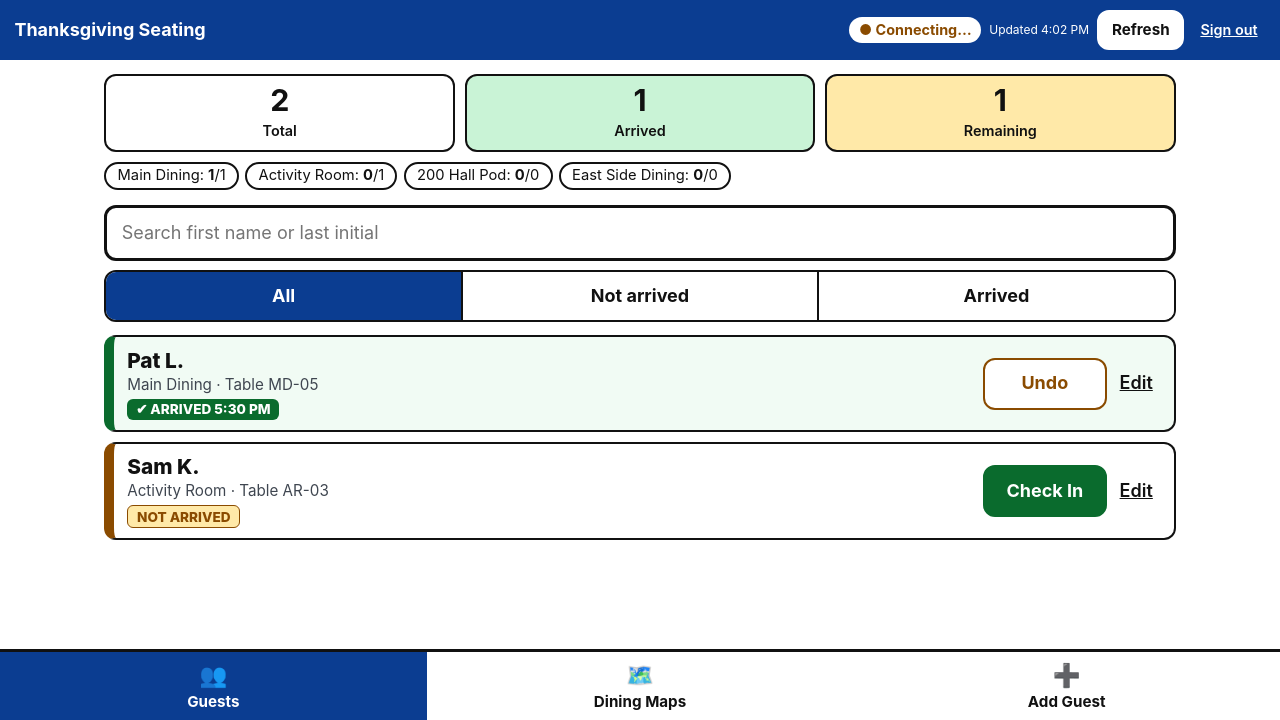
end to end through the real app shell › tap guest -> Dining Maps, right room, table outlined, sheet open; Check In works; leaving the map clears it
Click the text "Sam K.": x=163, y=467 [127,454,200,479]
(page scrolled)
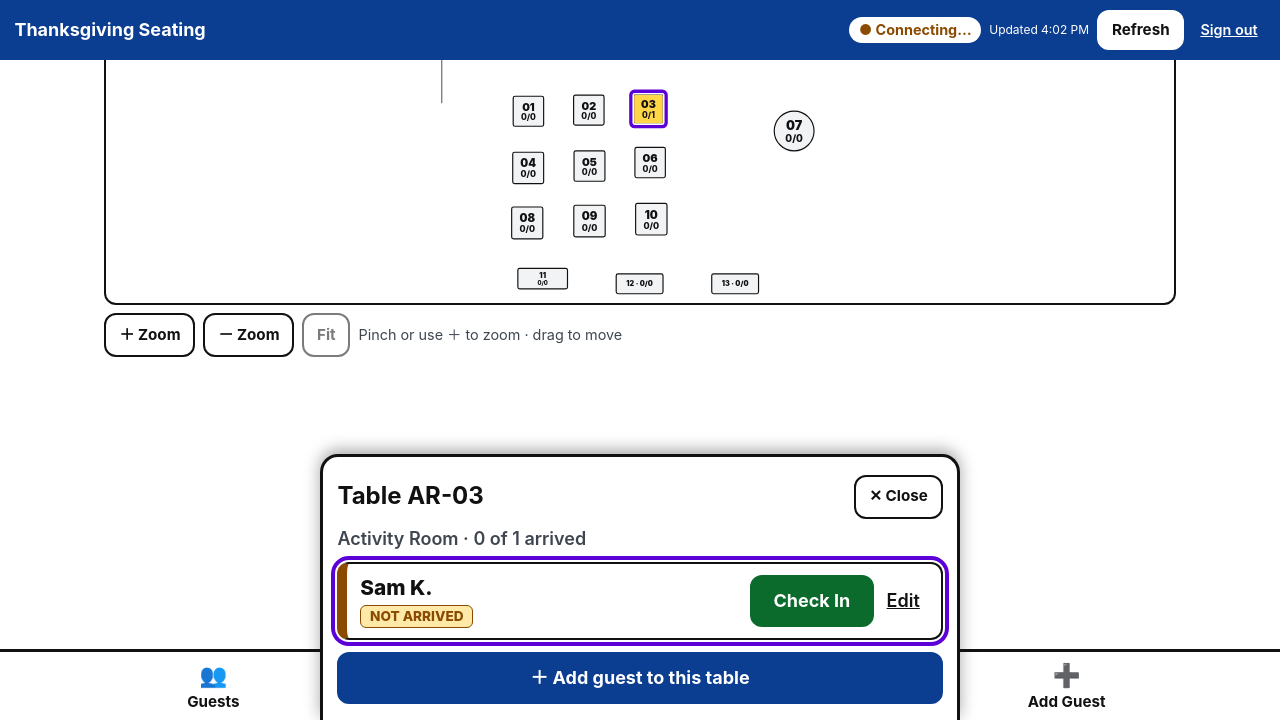
Expected: the text "NOT ARRIVED" is shown, [360,605,473,628]
Expected: the button "🗺️ Dining Maps" is marked as current, [427,652,853,719]
Existing check-in control, confirmed by the (fake) database before the UI changes
Click the button "Check In": x=812, y=601 [750,575,874,627]
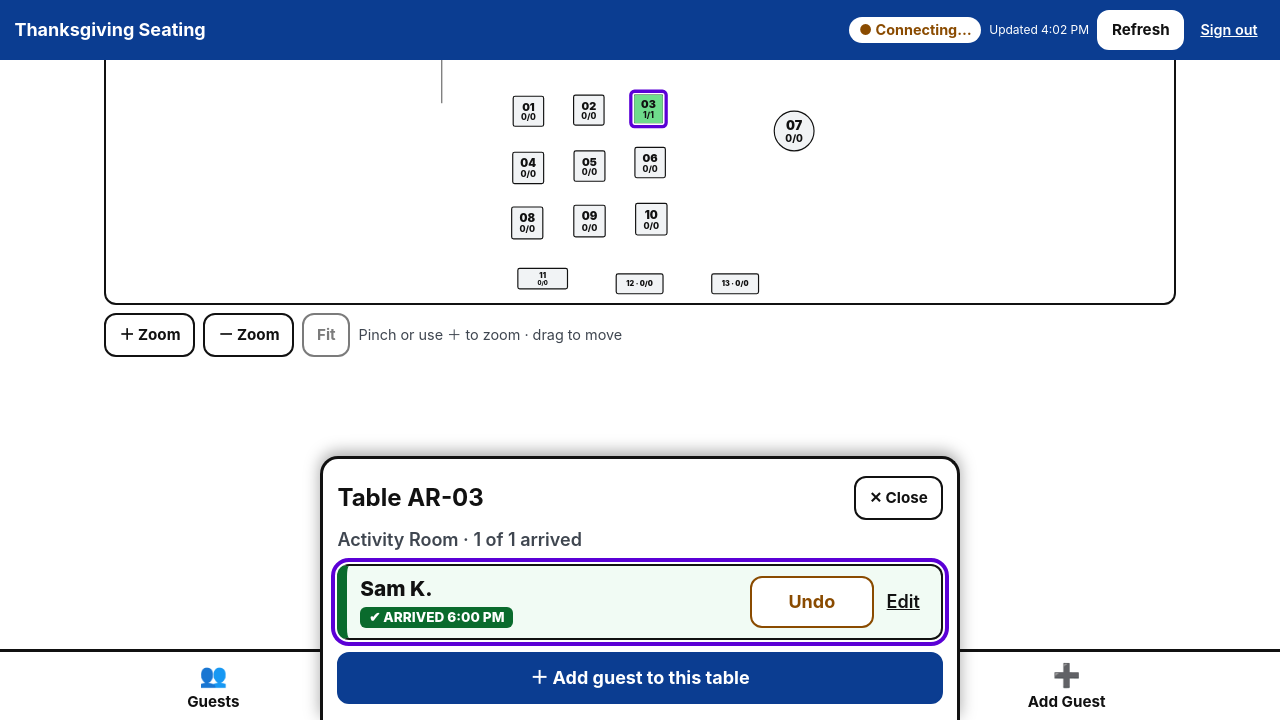
Expected: the text "✔ ARRIVED 6:00 PM" is shown, [360,606,513,628]
Leave the map and come back by the normal tab: no stale outline or sheet
Click the button "👥 Guests": x=213, y=686 [0,652,427,719]
(page scrolled)
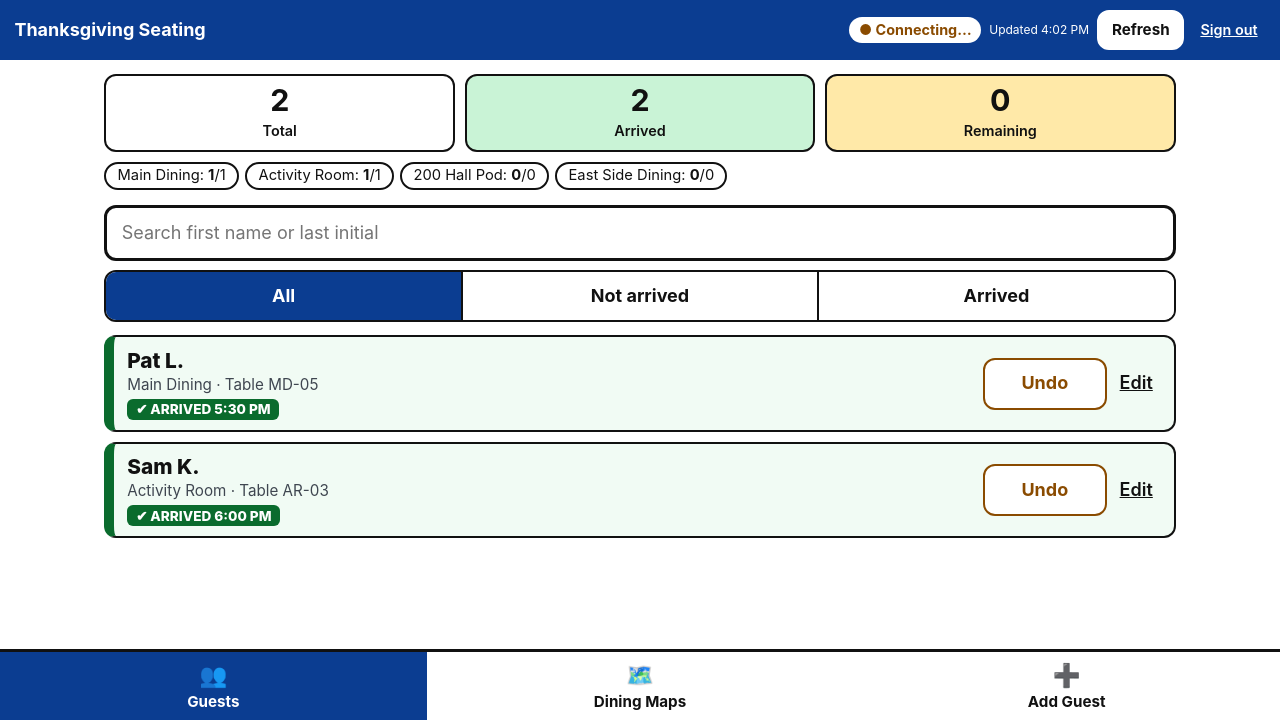
Expected: the search field named "Search guests" is shown, [104,205,1176,261]
Click the button "🗺️ Dining Maps": x=640, y=686 [427,652,853,719]
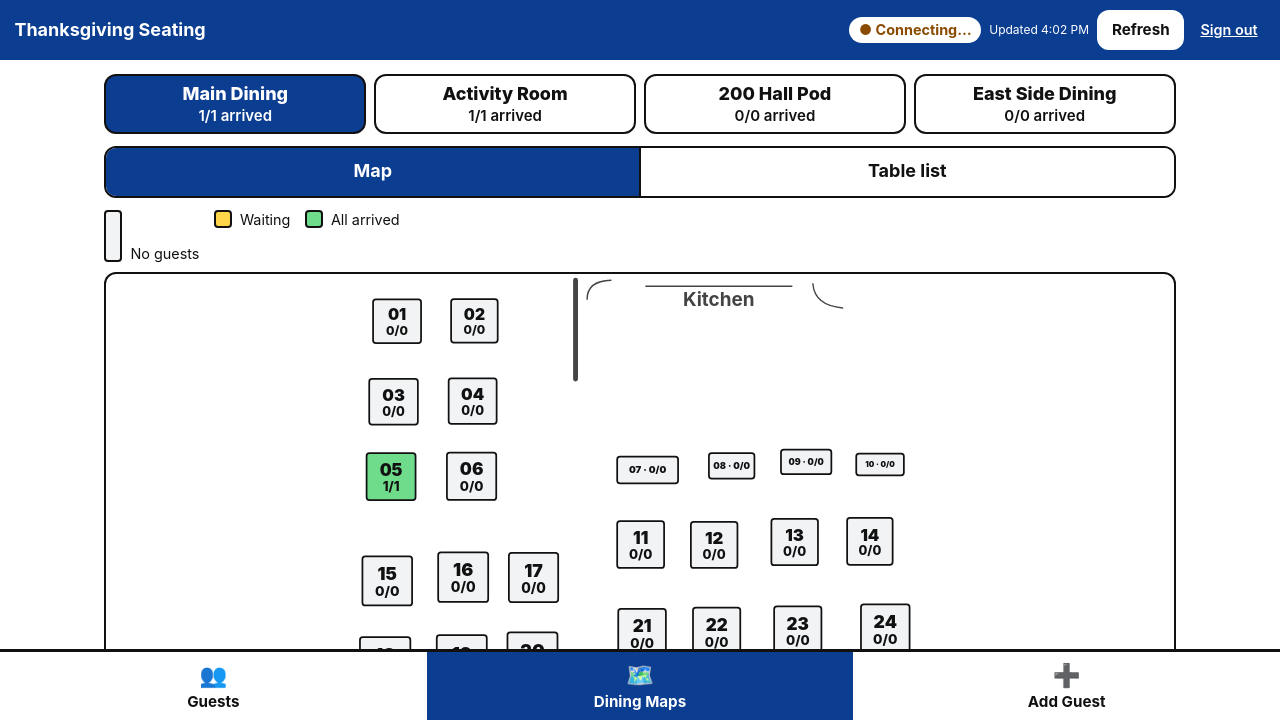
Expected: the element named "Dining area" is shown, [104,74,1176,134]
